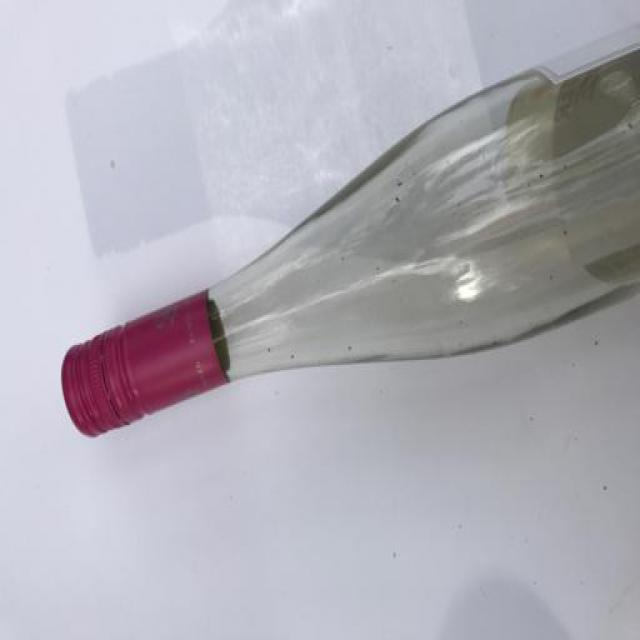glass: (55, 25, 640, 471)
